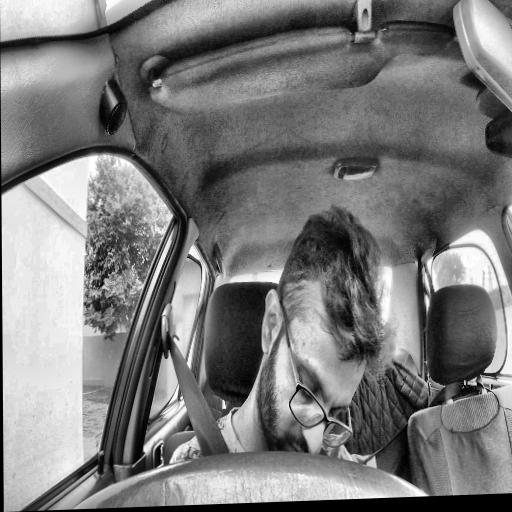drowsy: (259, 201, 394, 464)
